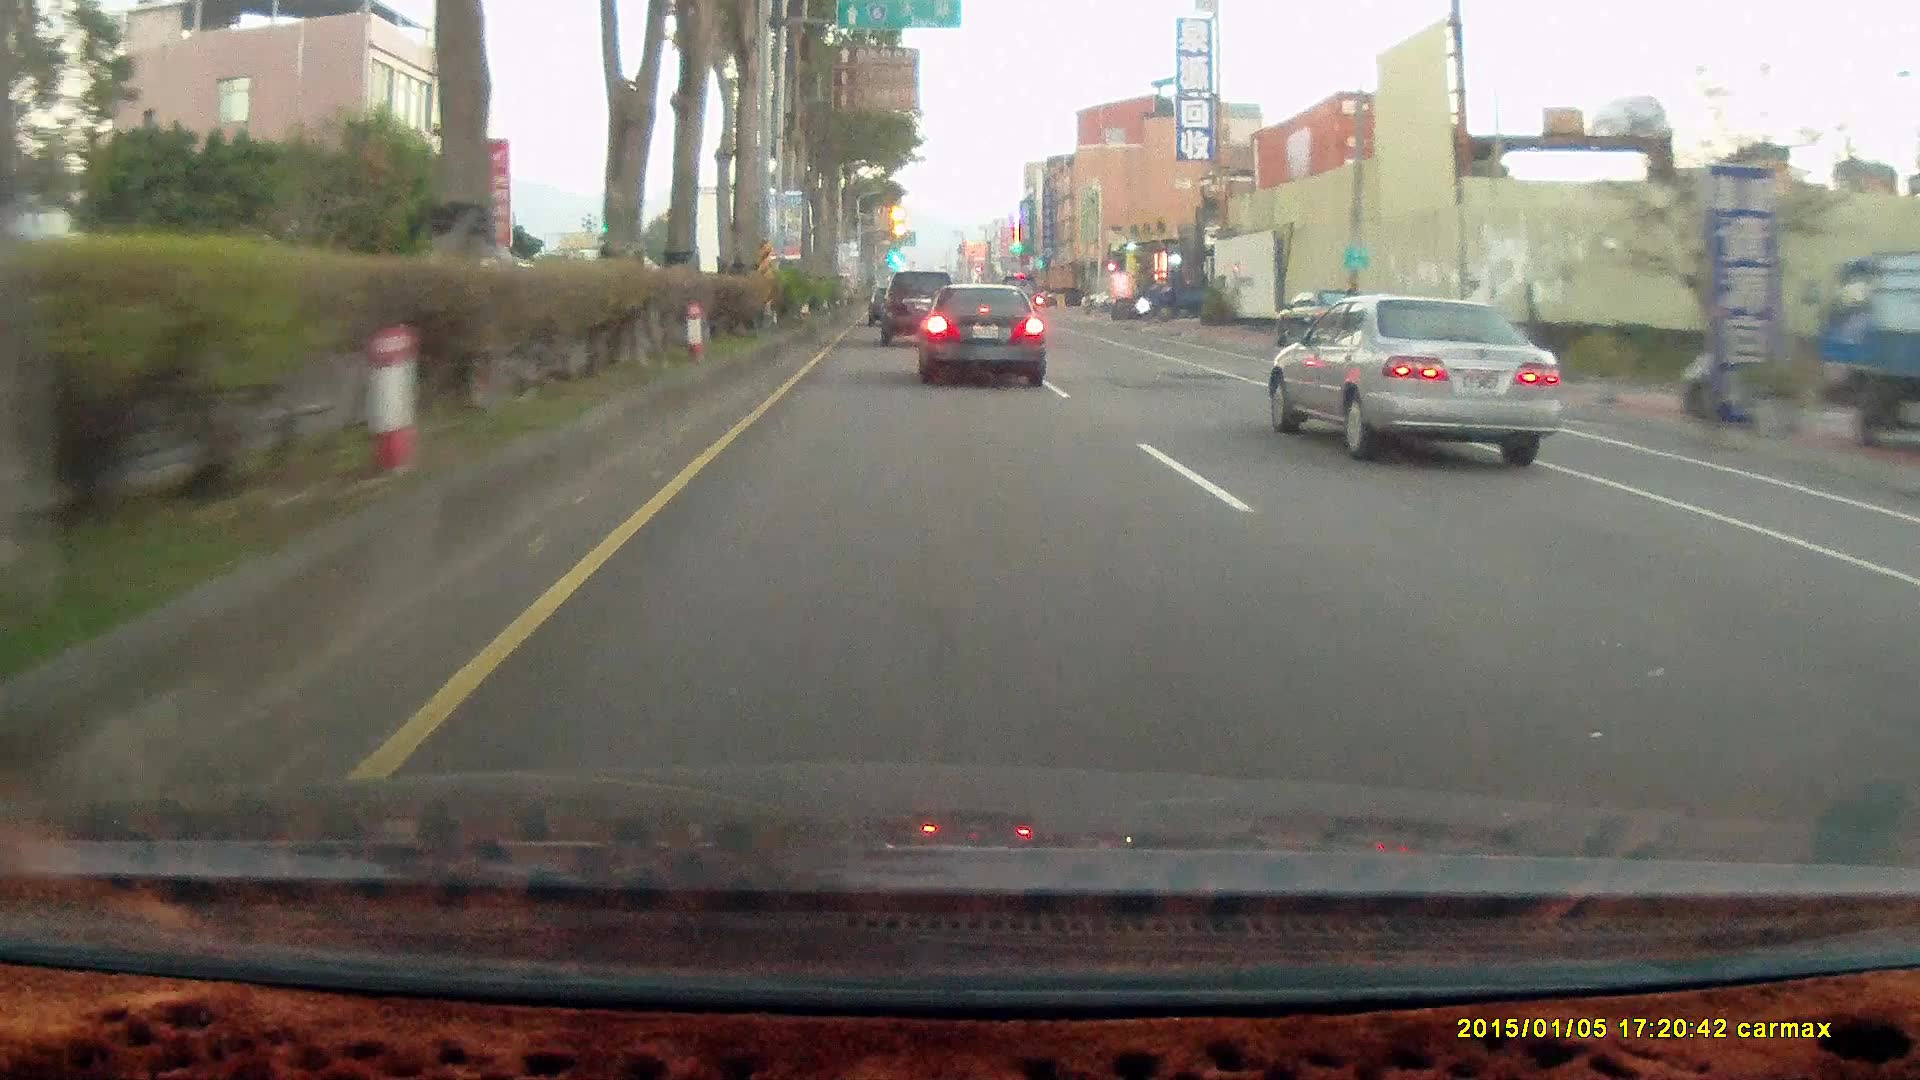vehicle: (1275, 293, 1576, 467), (1269, 293, 1563, 465), (1808, 255, 1920, 458), (1807, 255, 1919, 456), (913, 281, 1044, 385), (920, 285, 1050, 389), (880, 272, 961, 349), (878, 269, 957, 345), (1134, 268, 1217, 320), (1046, 286, 1087, 307)
